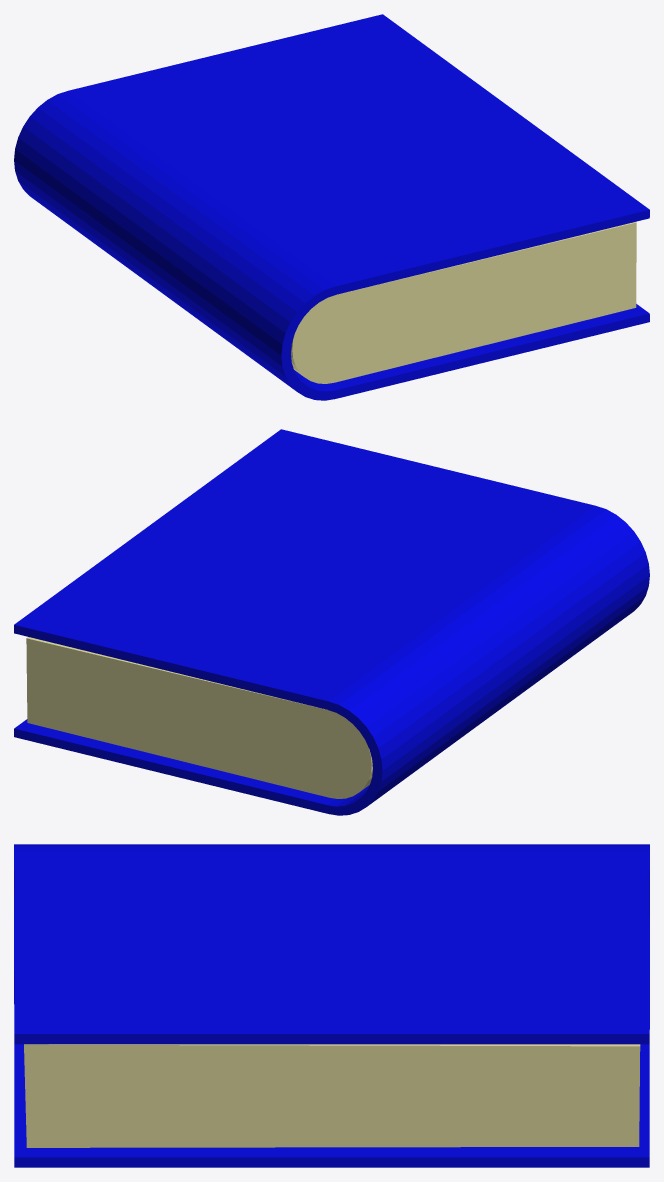
Rendered from book.fbx.
The picture shows the model from 3 angles, top to bottom: view 1: azimuth 30°, elevation 25°; view 2: azimuth 150°, elevation 25°; view 3: azimuth 270°, elevation 25°; orthographic projection. The views are drawn at different scales.
Parts seen in each view (by area): view 1: Cylinder.002, Cylinder.003; view 2: Cylinder.002, Cylinder.003; view 3: Cylinder.002, Cylinder.003.
Boxes of the visible parts, x1,y1,x2,y2 form: Cylinder.002: [14, 14, 649, 400]; Cylinder.003: [291, 222, 636, 383]; Cylinder.002: [14, 429, 649, 815]; Cylinder.003: [26, 637, 372, 798]; Cylinder.002: [14, 844, 649, 1167]; Cylinder.003: [24, 1044, 640, 1147].
Size of the model in its own units: 95.98 by 28.02 by 121.
